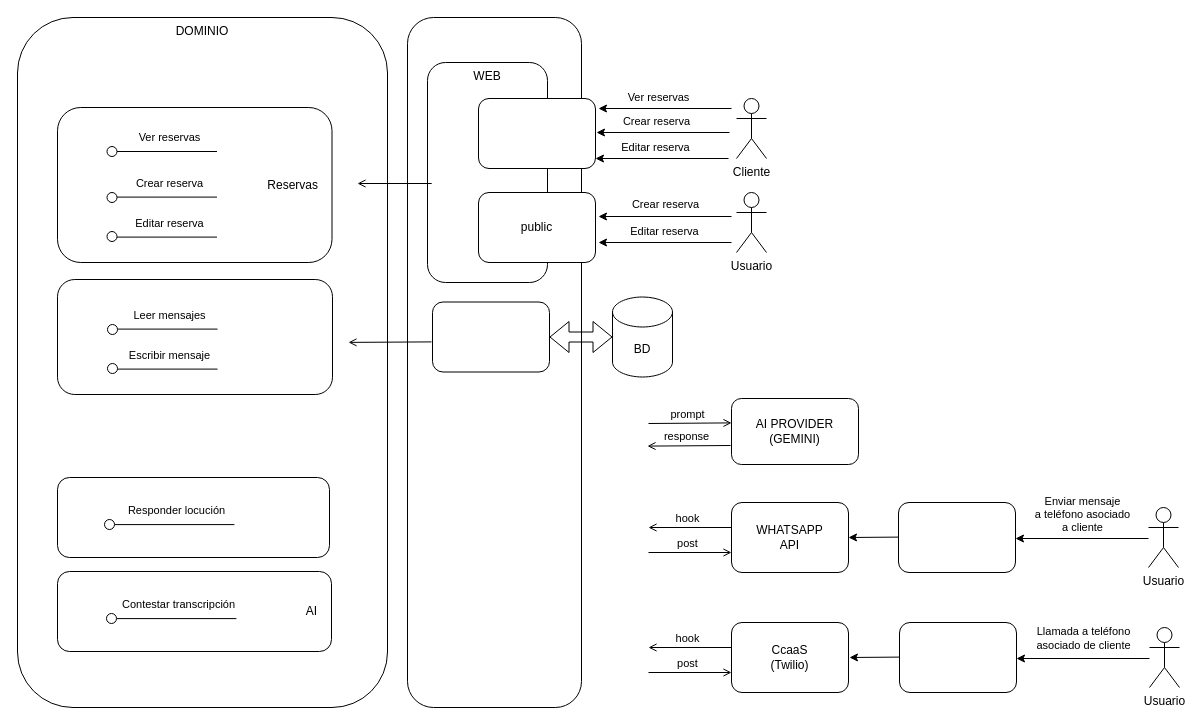
Some shapes in this 1202 by 726 pixel diagram are drawn without their labels. Each missing label, with the box of its shape:
APP: (478, 98, 596, 168)
INFRAESTRUCTURA: (406, 16, 582, 708)
Llamadas: (56, 476, 330, 558)
Mensajes: (56, 278, 332, 394)
PROVEEDOR TELEFONÍA: (898, 622, 1016, 692)
Repositorios: (432, 301, 550, 372)
WHATSAPP: (898, 502, 1016, 572)
